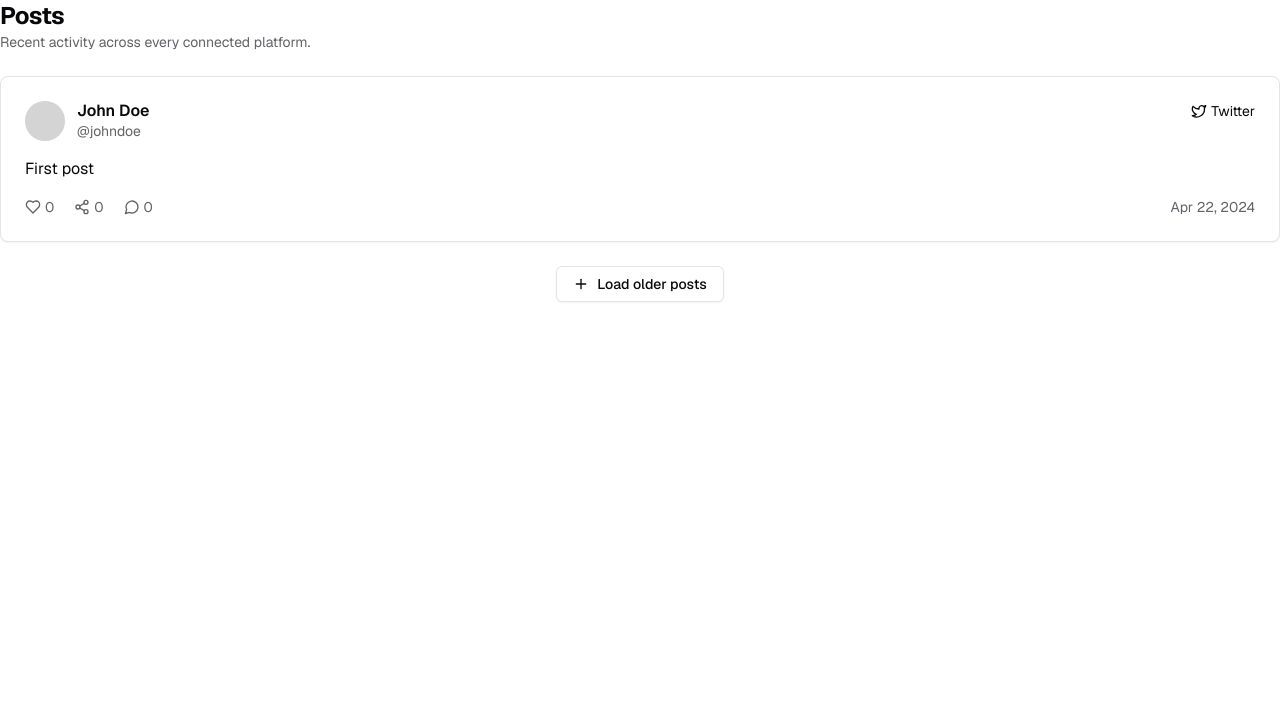
it: PostFeed › adds a comment and clears the draft
Click the button named "comments" at (138, 207), box [124,197,153,217]
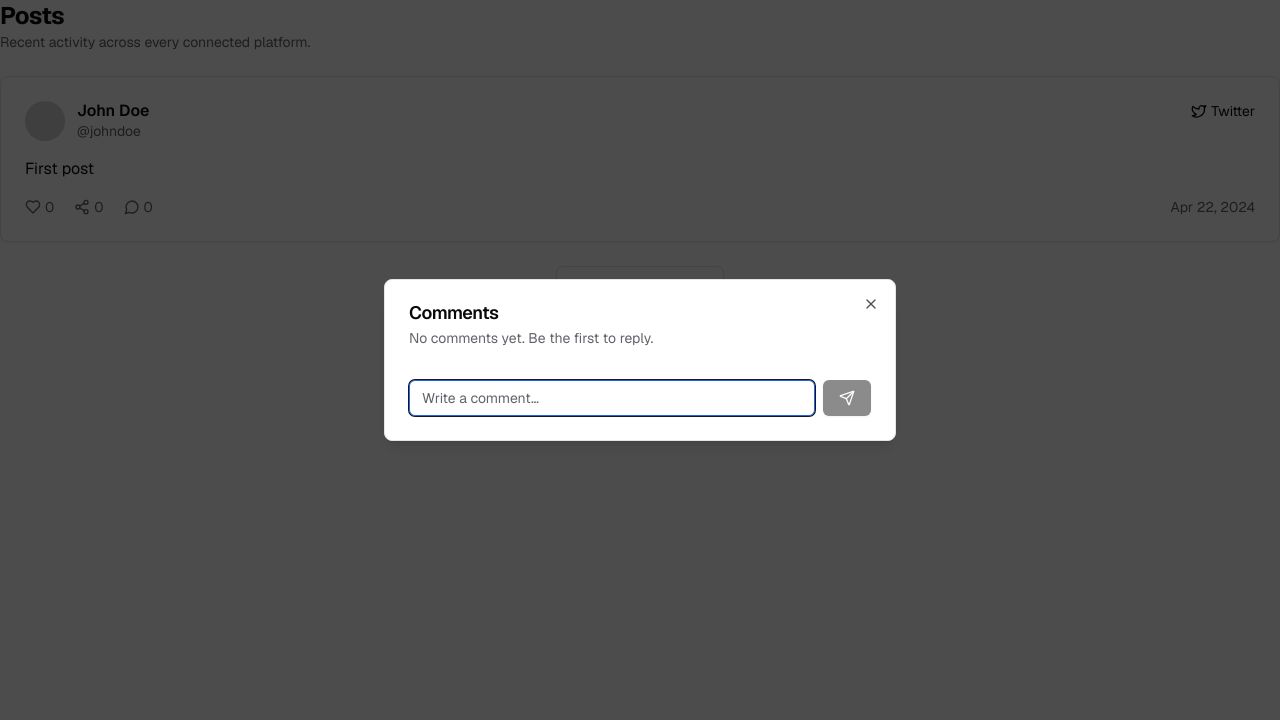
Type "Nice work" into the field labelled "Write a comment" at (612, 398), box [409,380,815,416]
Then press Enter
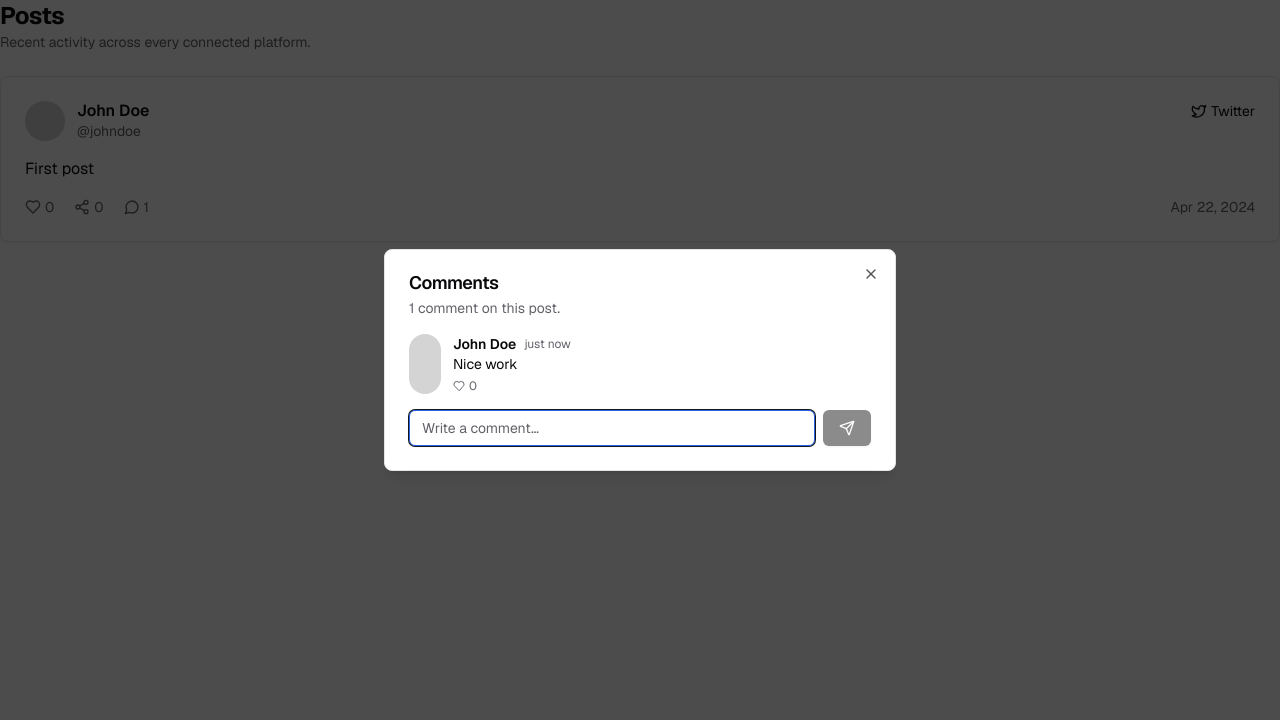
Expected: the field labelled "Write a comment" is empty, [409,410,815,446]
Expected: the text "Nice work" is shown, [453,355,517,373]
